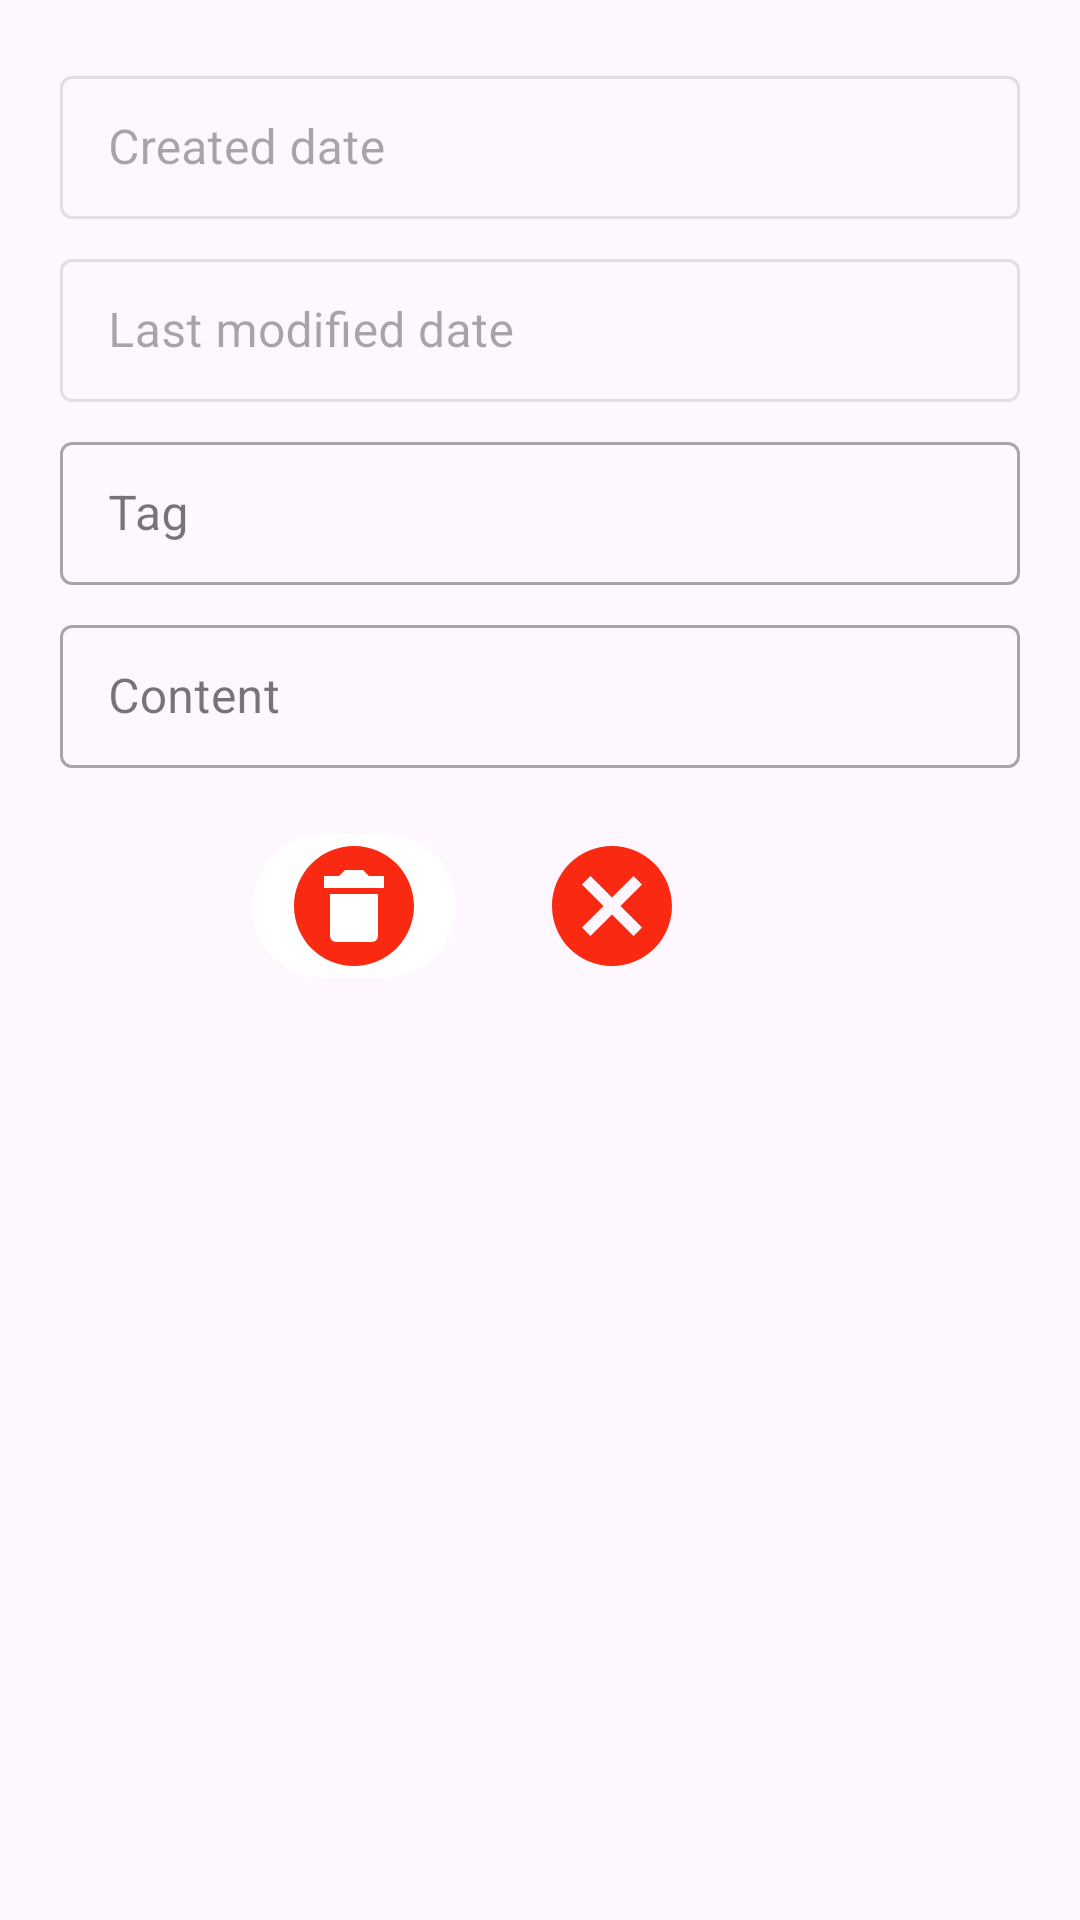

Icon bounding boxes for this 1080 x 1920 phone screenshot, format (x1, y1, x2, y2):
close: (552, 846, 672, 966)
delete: (294, 846, 414, 966)
